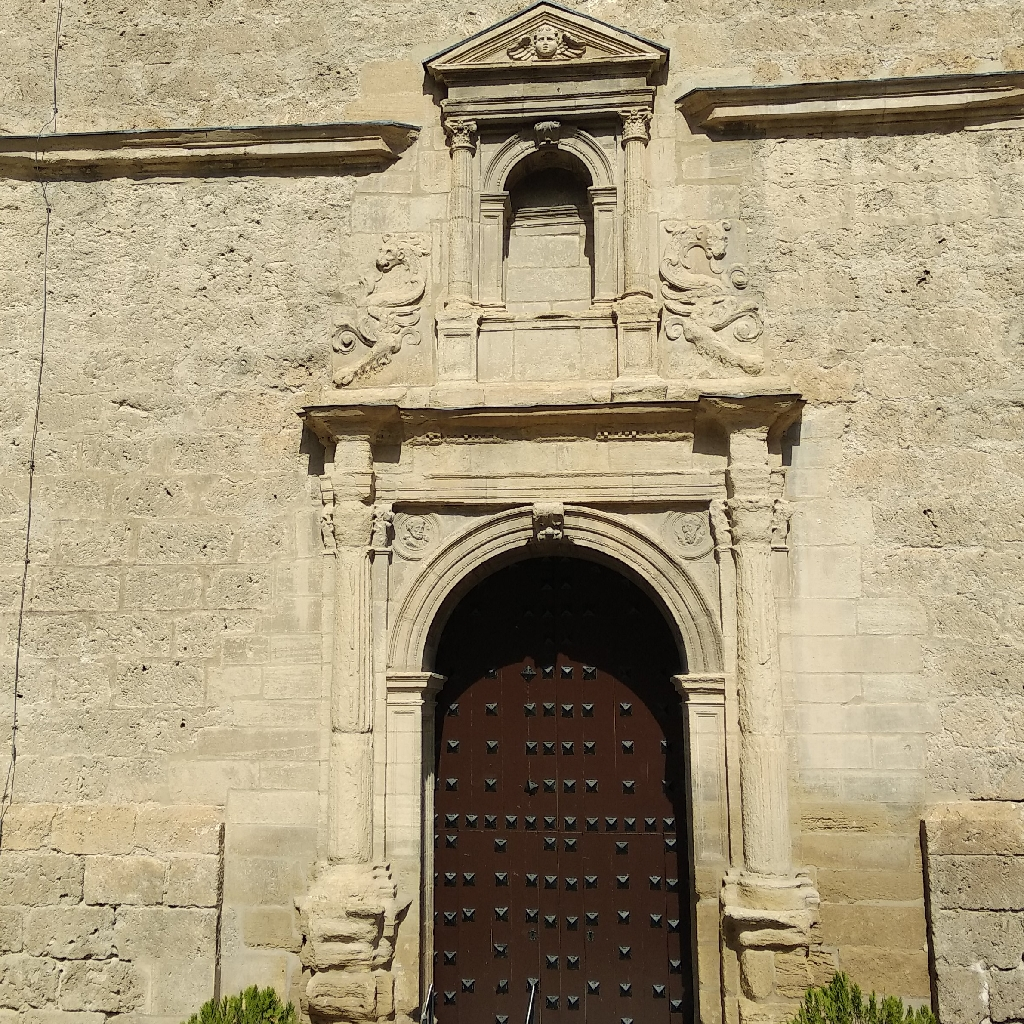arco-medio-punto: (411, 526, 708, 736), (494, 141, 604, 219)
fronton: (424, 1, 672, 80)
